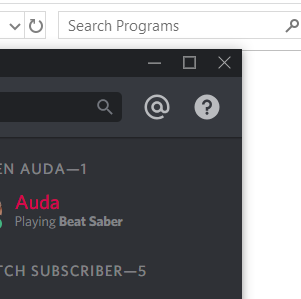close: (214, 52, 235, 73)
